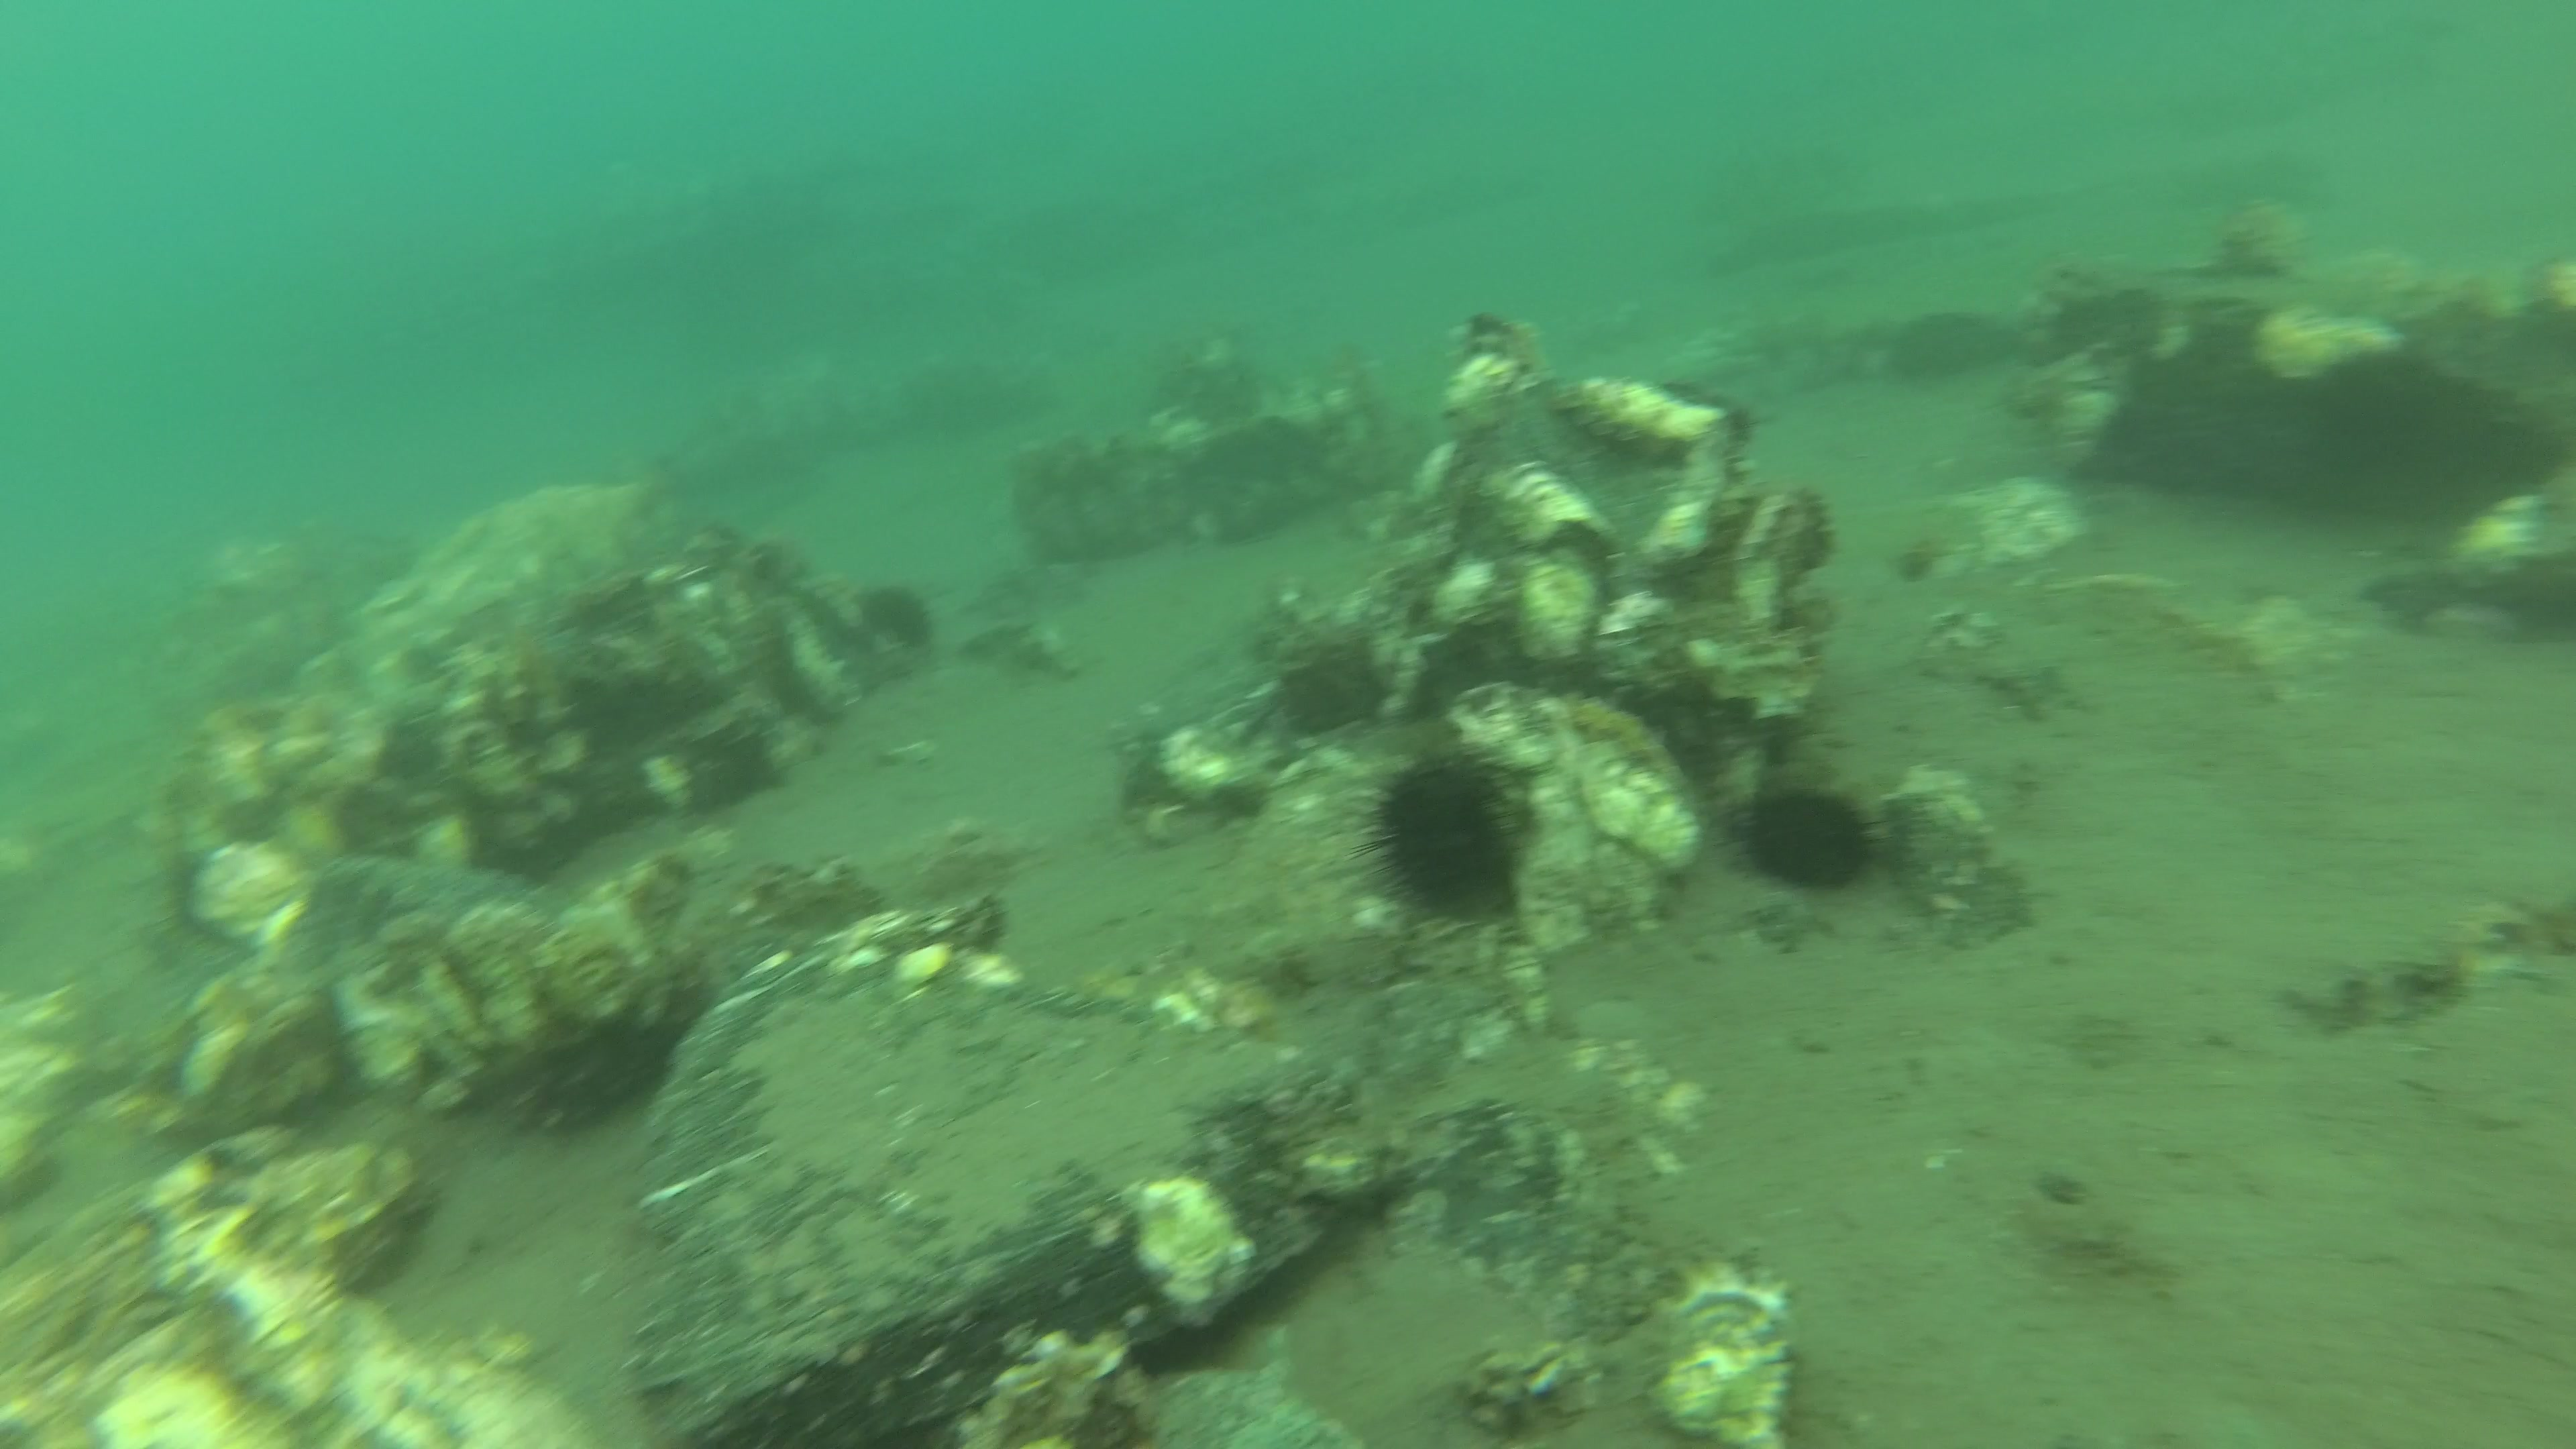echinus: (1350, 750, 1527, 924), (1713, 780, 1898, 895), (2305, 349, 2447, 460), (856, 584, 939, 653)
